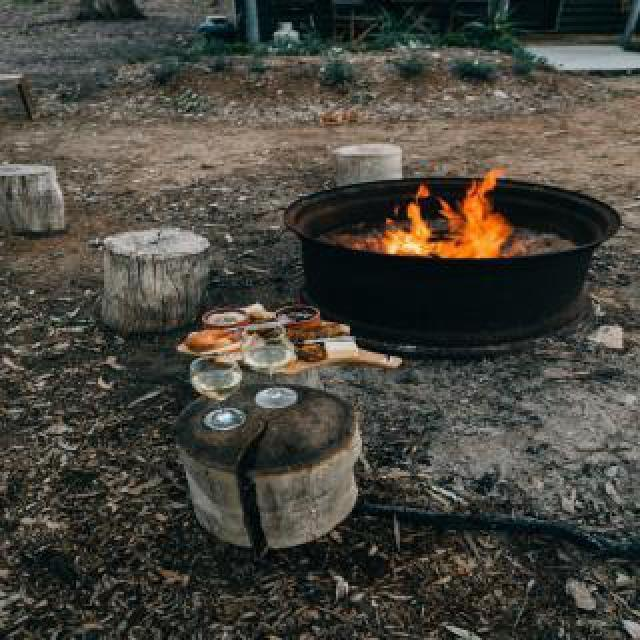Fire: (350, 168, 518, 258)
